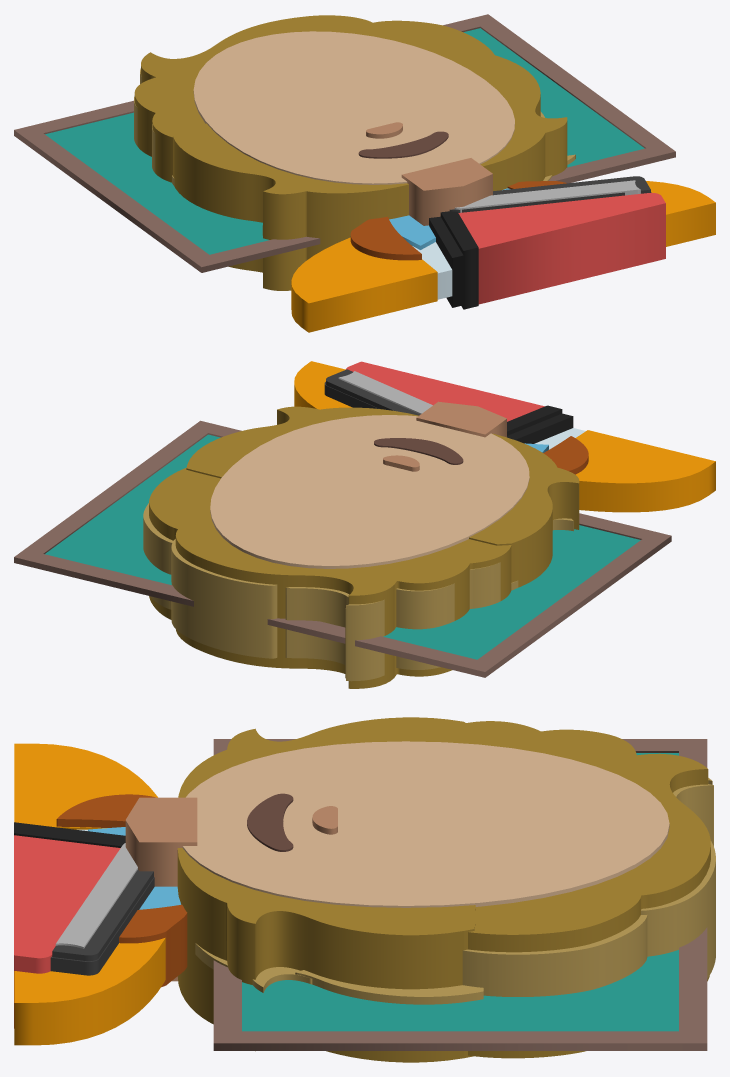
Rendered from emoji_u1f9d1_1f3fc_200d_1f3eb.glb.
The picture shows the model from 3 angles, top to bottom: view 1: azimuth 30°, elevation 25°; view 2: azimuth 150°, elevation 25°; view 3: azimuth 270°, elevation 25°; orthographic projection. The views are drawn at different scales.
Parts seen in each view (by area): view 1: emoji_u1f9d1_1f3fc_200d_1f3eb; view 2: emoji_u1f9d1_1f3fc_200d_1f3eb; view 3: emoji_u1f9d1_1f3fc_200d_1f3eb.
Boxes of the visible parts, x1=… form: emoji_u1f9d1_1f3fc_200d_1f3eb: x1=14, y1=14, x2=715, y2=332; emoji_u1f9d1_1f3fc_200d_1f3eb: x1=14, y1=361, x2=715, y2=688; emoji_u1f9d1_1f3fc_200d_1f3eb: x1=14, y1=717, x2=715, y2=1062.
Bounding box in the file's own units: 0.0338 × 0.0074 × 0.033.
